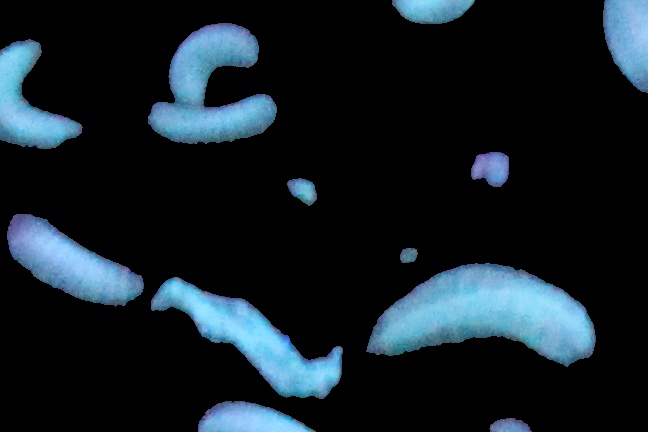larvae: (366, 265, 595, 369), (6, 214, 145, 307), (1, 37, 80, 149), (166, 23, 260, 106), (149, 102, 276, 146), (387, 1, 485, 25)
